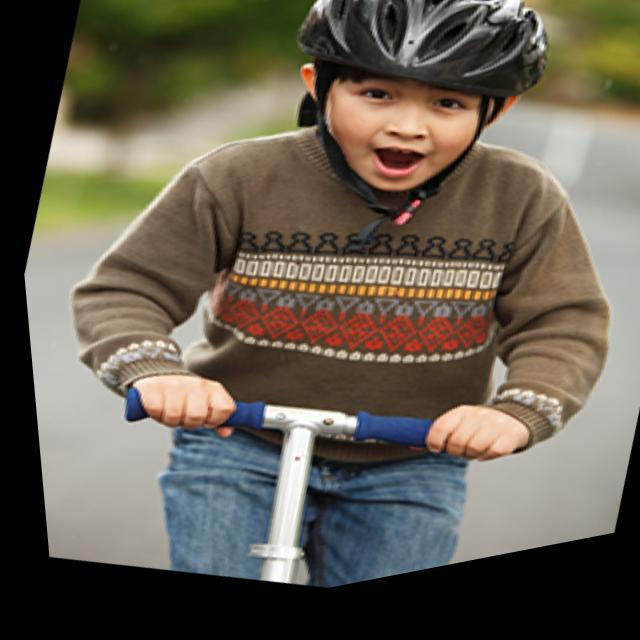Helmet: (282, 0, 555, 206)
